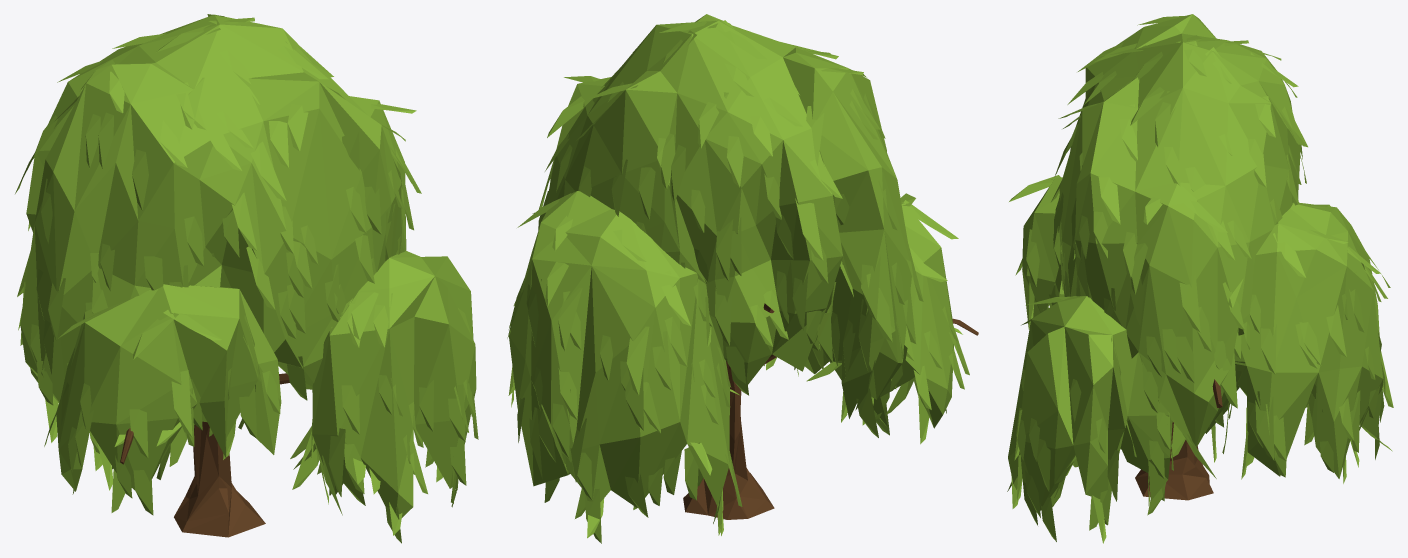
The model's file is SM_Tree_Willow_Weeping_Mature_A.fbx.
3 renders of one model, left to right at view 1: azimuth 30°, elevation 25°; view 2: azimuth 150°, elevation 25°; view 3: azimuth 270°, elevation 25°, orthographic. The views are drawn at different scales.
Visible parts, largest first — view 1: tree-willow-weeping-mature-a; view 2: tree-willow-weeping-mature-a; view 3: tree-willow-weeping-mature-a.
Boxes of the visible parts, x1,y1,x2,y2 form: tree-willow-weeping-mature-a: (15,14,478,543); tree-willow-weeping-mature-a: (507,14,978,543); tree-willow-weeping-mature-a: (1007,14,1393,543).
Bounding box in the file's own units: 7.11 × 8.27 × 6.54.
